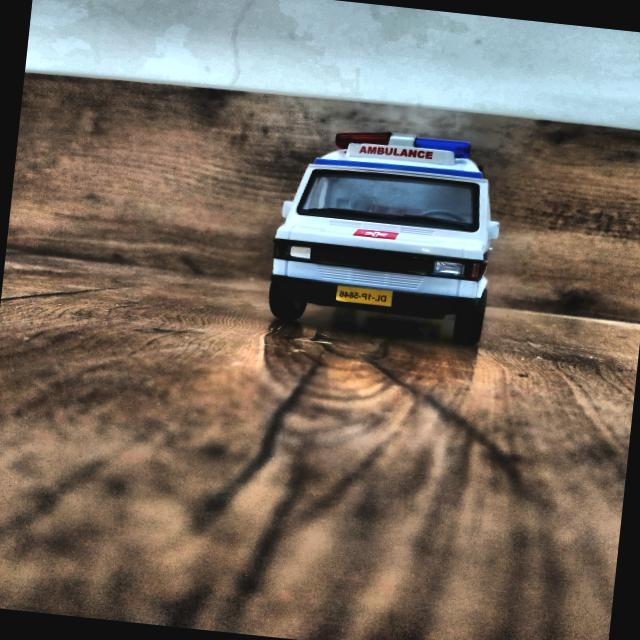Ambulance: (253, 110, 516, 364)
